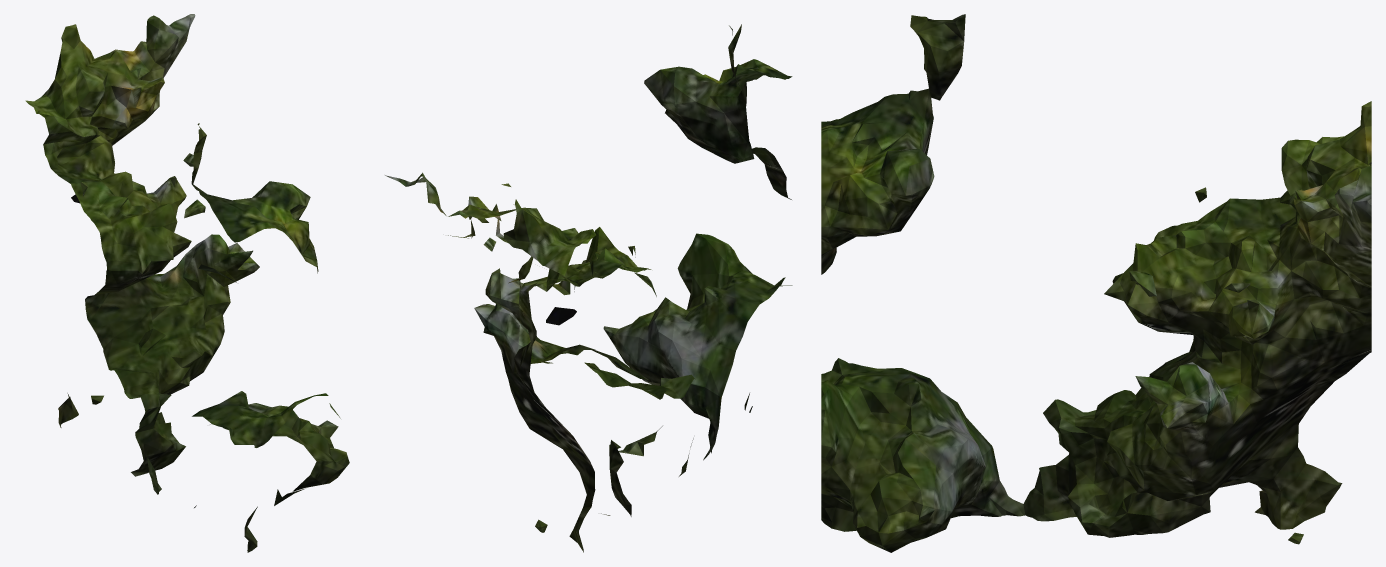
3 renders of one model, left to right at view 1: azimuth 30°, elevation 25°; view 2: azimuth 150°, elevation 25°; view 3: azimuth 270°, elevation 25°, orthographic. The views are drawn at different scales.
Bounding box in the file's own units: 0.7907 × 1.67 × 1.67.
Materials: 3 (3 with a texture image).
